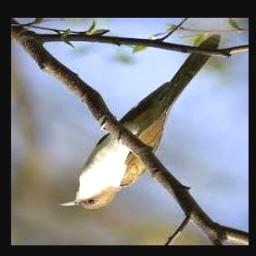Cuckoo: (58, 36, 222, 209)
